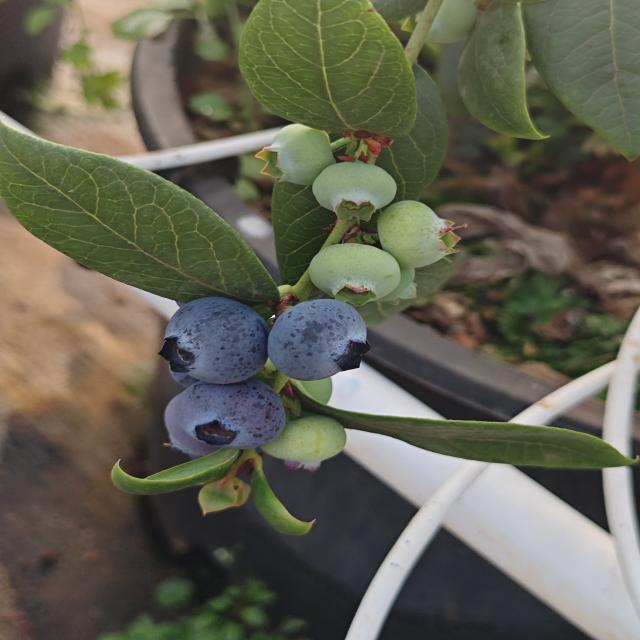ripe: (156, 295, 270, 387), (162, 379, 288, 457), (266, 297, 372, 383)
